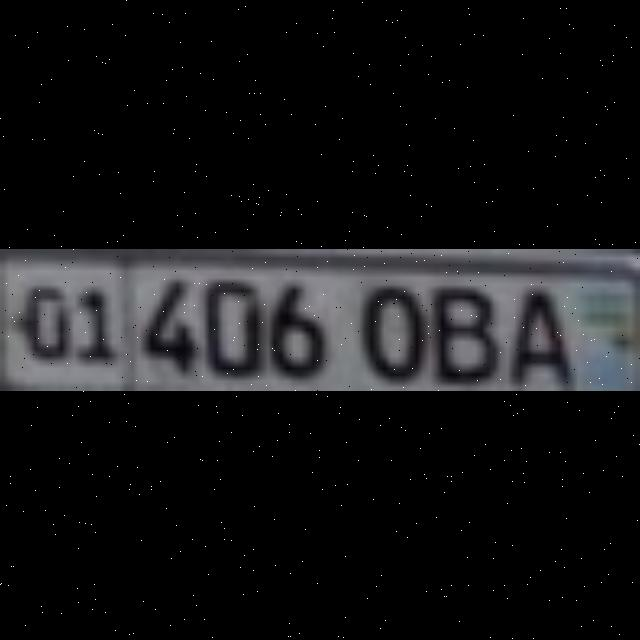0: (194, 268, 252, 366), (20, 274, 58, 346)
1: (64, 275, 110, 353)
4: (136, 268, 194, 359)
6: (265, 274, 317, 372)
A: (504, 276, 562, 378)
B: (426, 276, 492, 378)
O: (356, 274, 420, 372)
